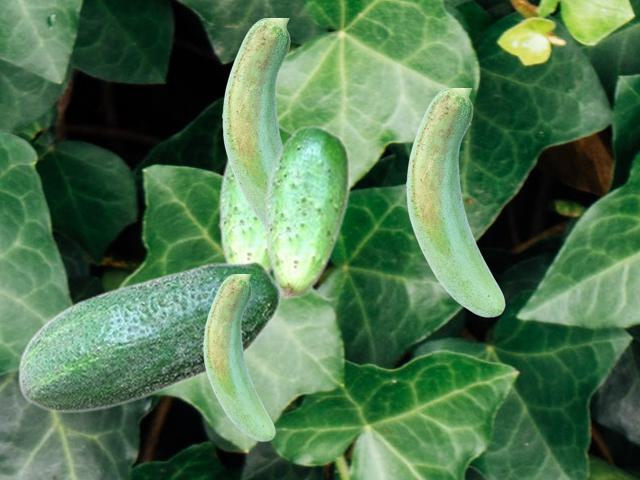cucumber: (17, 260, 283, 412), (406, 88, 504, 316), (264, 124, 349, 299), (222, 18, 290, 227), (203, 274, 274, 440), (218, 121, 292, 272)
